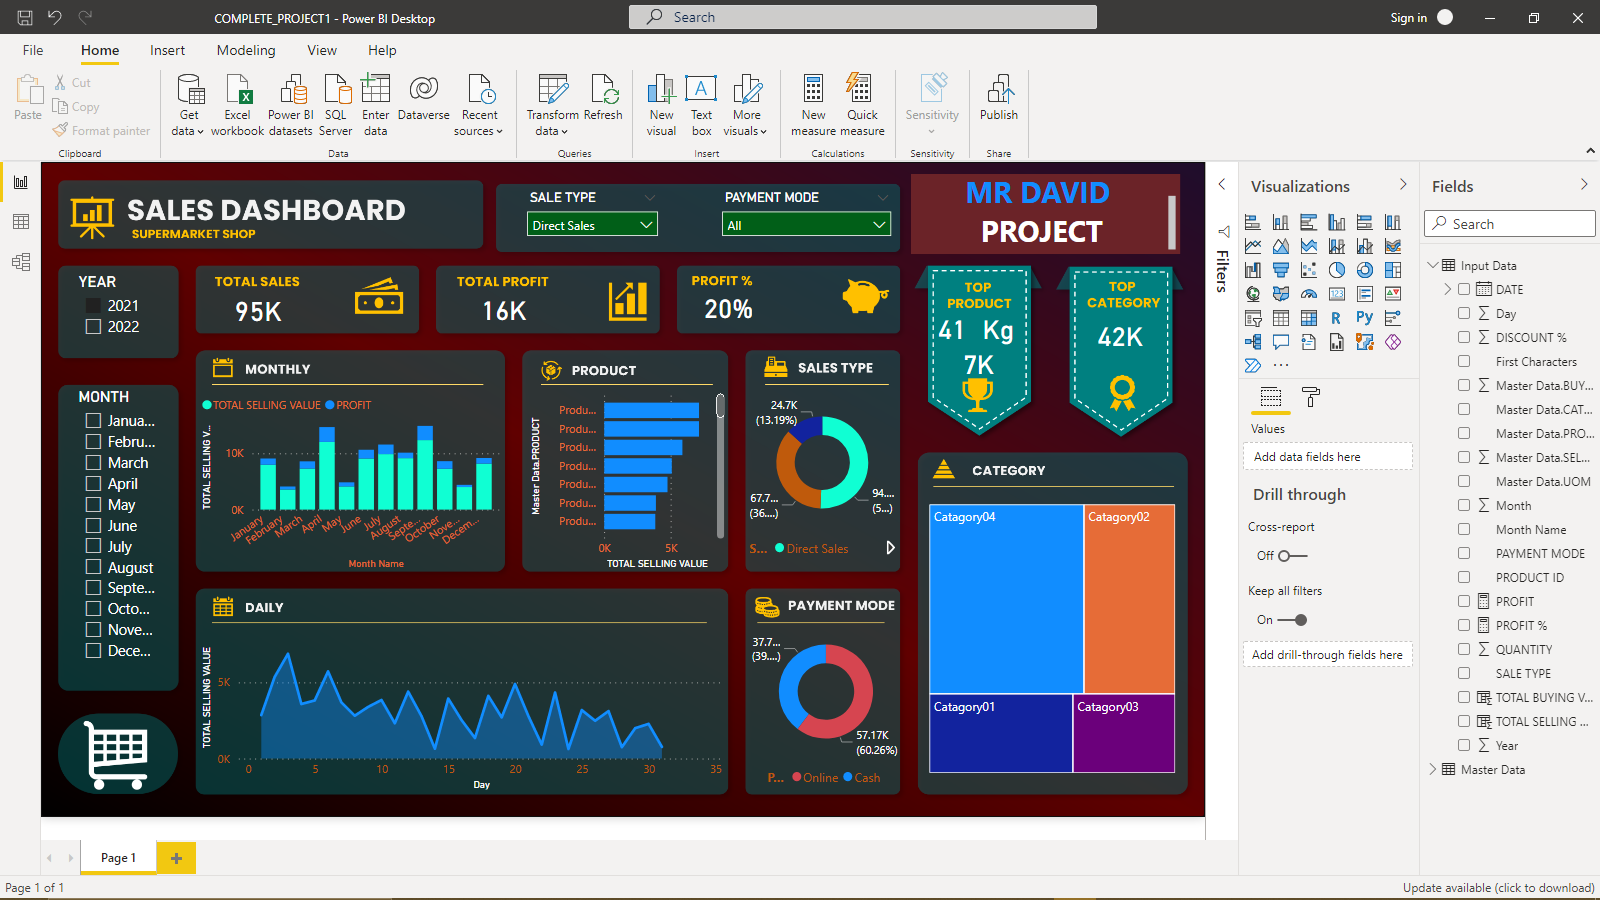

The page's visual inventory and layout, read from the dashboard file:
{"tool":"powerbi","page":{"name":"Page 1","canvas":[1280,720],"ordinal":0},"visuals":[{"type":"slicer","title":"YEAR","fields":{"Values":["Input Data.Year"]},"box":[36.3,121,94.6,82.5],"z":0},{"type":"slicer","fields":{"Values":["Input Data.SALE TYPE"]},"box":[524.5,26.4,163.8,82.5],"z":1},{"type":"slicer","fields":{"Values":["Input Data.PAYMENT MODE"]},"box":[739,26.4,205.6,82.5],"z":2},{"type":"slicer","title":"MONTH","fields":{"Values":["Input Data.Month Name"]},"box":[36.3,247.4,94.6,311.2],"z":3},{"type":"card","fields":{"Values":["Input Data.PROFIT %"]},"box":[699.4,136.4,113.3,46.2],"z":4},{"type":"card","fields":{"Values":["Input Data.TOTAL SELLING VALUE"]},"box":[180.3,143,116.6,39.6],"z":5},{"type":"card","fields":{"Values":["Input Data.PROFIT"]},"box":[454.2,137.5,108.9,49.5],"z":6},{"type":"card","fields":{"Values":["Input Data.TOTAL SELLING VALUE"]},"box":[978.7,199,104.5,45.1],"z":7},{"type":"card","fields":{"Values":["Input Data.TOTAL SELLING VALUE"]},"box":[1143.6,162.7,85.8,55],"z":8},{"type":"card","fields":{"Values":["Input Data.QUANTITY"]},"box":[972.1,161.6,59.4,40.7],"z":9},{"type":"card","fields":{"Values":["Input Data.Master Data.UOM"]},"box":[1021.6,156.2,61.6,52.8],"z":10},{"type":"columnChart","fields":{"Y":["Input Data.TOTAL SELLING VALUE","Input Data.PROFIT"],"Category":["Input Data.Month Name"]},"box":[171.5,247.4,337.6,204.5],"z":11},{"type":"clusteredBarChart","fields":{"Category":["Input Data.Master Data.PRODUCT"],"Y":["Input Data.TOTAL SELLING VALUE"]},"box":[533.3,241.9,223.2,210],"z":12},{"type":"areaChart","fields":{"Y":["Input Data.TOTAL SELLING VALUE"],"Category":["Input Data.Day"]},"box":[171.5,508,585,186.9],"z":13},{"type":"donutChart","fields":{"Category":["Input Data.SALE TYPE"],"Y":["Input Data.TOTAL SELLING VALUE"]},"box":[774.2,247.4,170.4,195.7],"z":14},{"type":"donutChart","fields":{"Y":["Input Data.TOTAL SELLING VALUE"],"Series":["Input Data.PAYMENT MODE"]},"box":[774.2,499.2,178.1,195.7],"z":15},{"type":"treemap","fields":{"Group":["Input Data.Master Data.CATEGORY"],"Values":["Input Data.TOTAL SELLING VALUE"]},"box":[972.1,371.7,280.4,304.6],"z":18},{"type":"textbox","box":[956.7,13.2,295.8,88],"z":19}]}

Visuals, with their boxes on the page's 1280x720 design canvas (x1, y1, x2, y2). These are canvas units, not pixel positions in the 1600x900 screenshot, which may show the page scaled, cropped or inside an application window:
"YEAR" slicer: {"left": 36, "top": 121, "right": 131, "bottom": 204}
slicer - Input Data.SALE TYPE: {"left": 524, "top": 26, "right": 688, "bottom": 109}
slicer - Input Data.PAYMENT MODE: {"left": 739, "top": 26, "right": 945, "bottom": 109}
"MONTH" slicer: {"left": 36, "top": 247, "right": 131, "bottom": 559}
card - Input Data.PROFIT %: {"left": 699, "top": 136, "right": 813, "bottom": 183}
card - Input Data.TOTAL SELLING VALUE: {"left": 180, "top": 143, "right": 297, "bottom": 183}
card - Input Data.PROFIT: {"left": 454, "top": 138, "right": 563, "bottom": 187}
card - Input Data.TOTAL SELLING VALUE: {"left": 979, "top": 199, "right": 1083, "bottom": 244}
card - Input Data.TOTAL SELLING VALUE: {"left": 1144, "top": 163, "right": 1229, "bottom": 218}
card - Input Data.QUANTITY: {"left": 972, "top": 162, "right": 1032, "bottom": 202}
card - Input Data.Master Data.UOM: {"left": 1022, "top": 156, "right": 1083, "bottom": 209}
columnChart - Input Data.TOTAL SELLING VALUE x Input Data.PROFIT: {"left": 172, "top": 247, "right": 509, "bottom": 452}
clusteredBarChart - Input Data.Master Data.PRODUCT x Input Data.TOTAL SELLING VALUE: {"left": 533, "top": 242, "right": 756, "bottom": 452}
areaChart - Input Data.TOTAL SELLING VALUE x Input Data.Day: {"left": 172, "top": 508, "right": 756, "bottom": 695}
donutChart - Input Data.SALE TYPE x Input Data.TOTAL SELLING VALUE: {"left": 774, "top": 247, "right": 945, "bottom": 443}
donutChart - Input Data.TOTAL SELLING VALUE x Input Data.PAYMENT MODE: {"left": 774, "top": 499, "right": 952, "bottom": 695}
treemap - Input Data.Master Data.CATEGORY x Input Data.TOTAL SELLING VALUE: {"left": 972, "top": 372, "right": 1252, "bottom": 676}
textbox: {"left": 957, "top": 13, "right": 1252, "bottom": 101}
